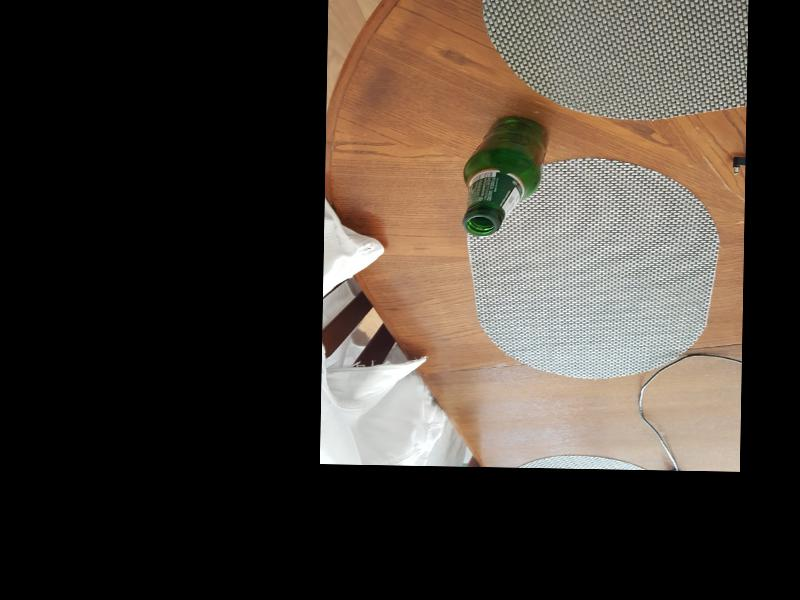Beer: (462, 113, 546, 237)
